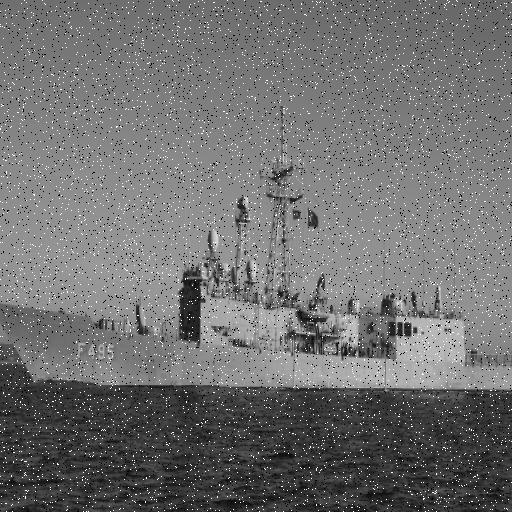Fragata: (1, 99, 512, 397)
